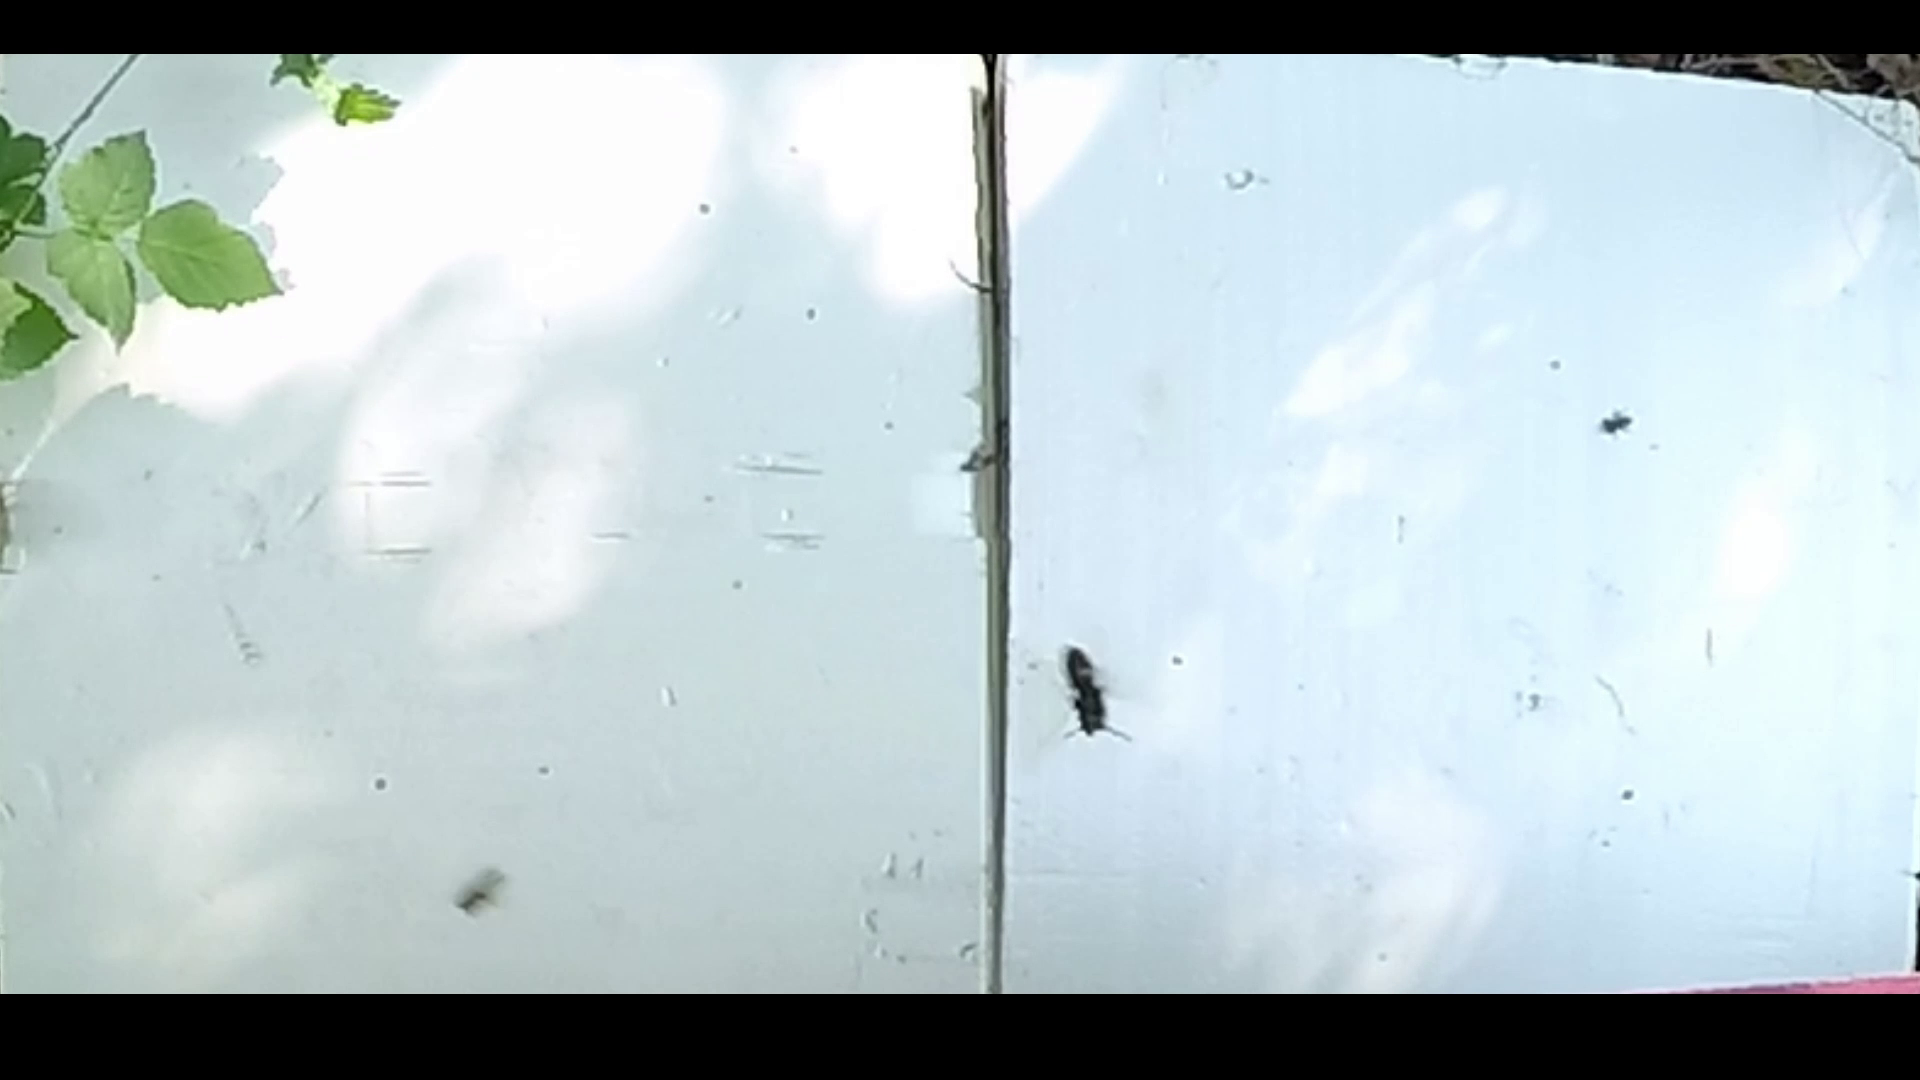Asian_hornets: (1023, 628, 1156, 760)
